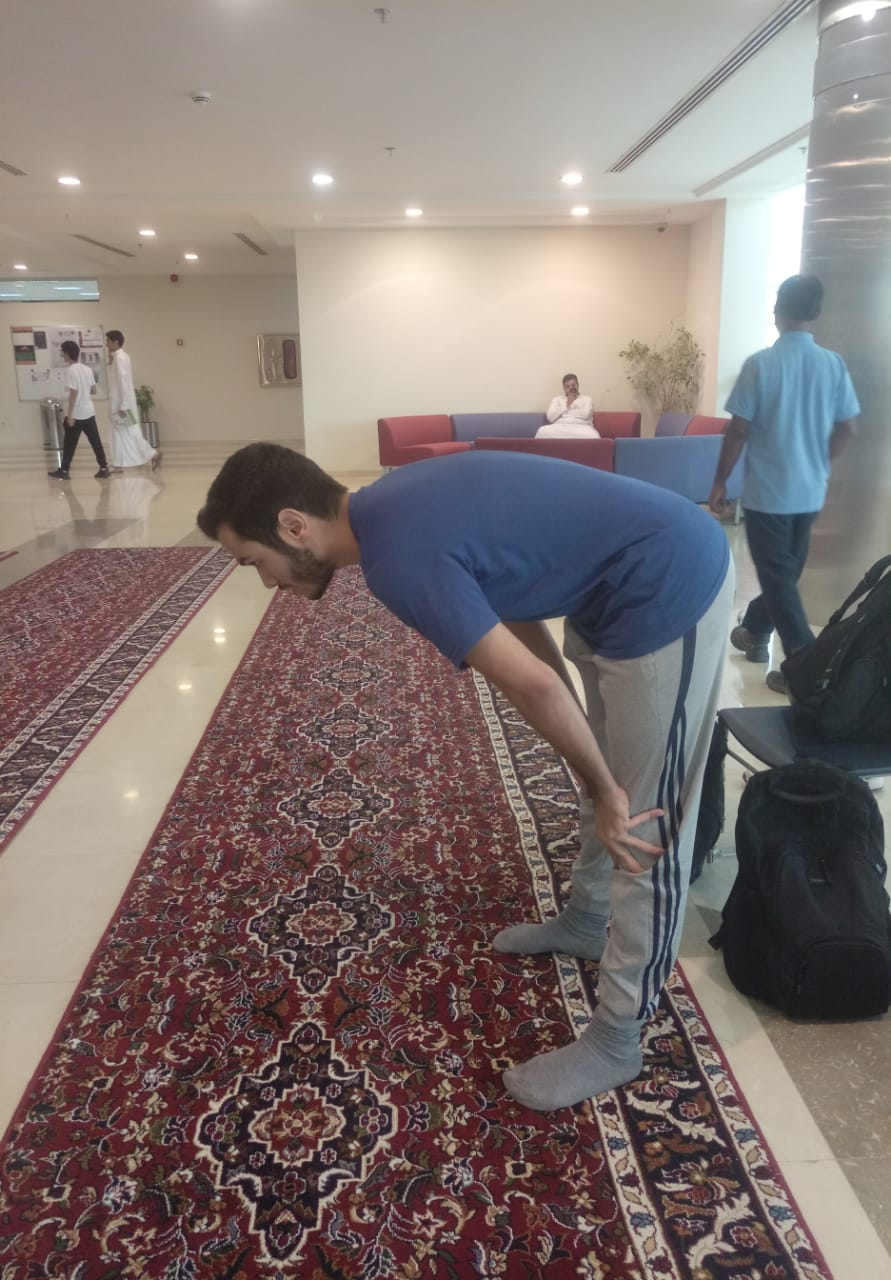ruku: (99, 398, 822, 1186)
